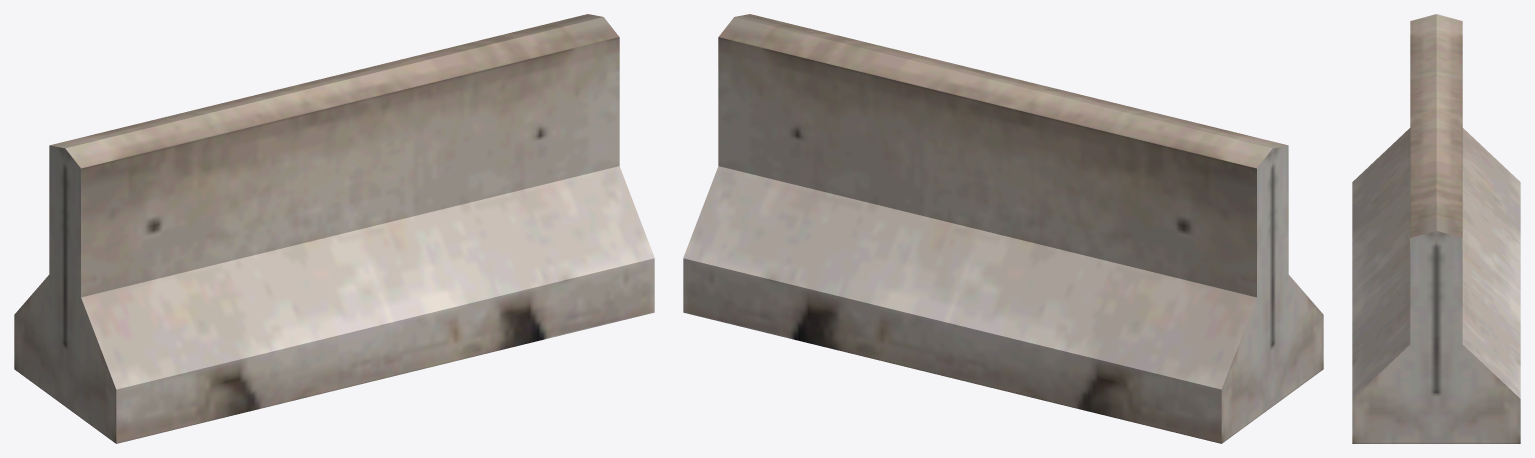
Rendered from Urban_JerseyBarrier_Model.fbx.
3 renders of one model, left to right at view 1: azimuth 30°, elevation 25°; view 2: azimuth 150°, elevation 25°; view 3: azimuth 270°, elevation 25°, orthographic. The views are drawn at different scales.
Parts seen in each view (by area): view 1: Urban_JerseyBarrier_Mesh; view 2: Urban_JerseyBarrier_Mesh; view 3: Urban_JerseyBarrier_Mesh.
Part boxes in pixels (<box>): Urban_JerseyBarrier_Mesh: <box>14,14,654,443</box>; Urban_JerseyBarrier_Mesh: <box>683,14,1323,443</box>; Urban_JerseyBarrier_Mesh: <box>1352,14,1520,443</box>.
Size of the model in its own units: 2.48 by 1.14 by 0.8144.
